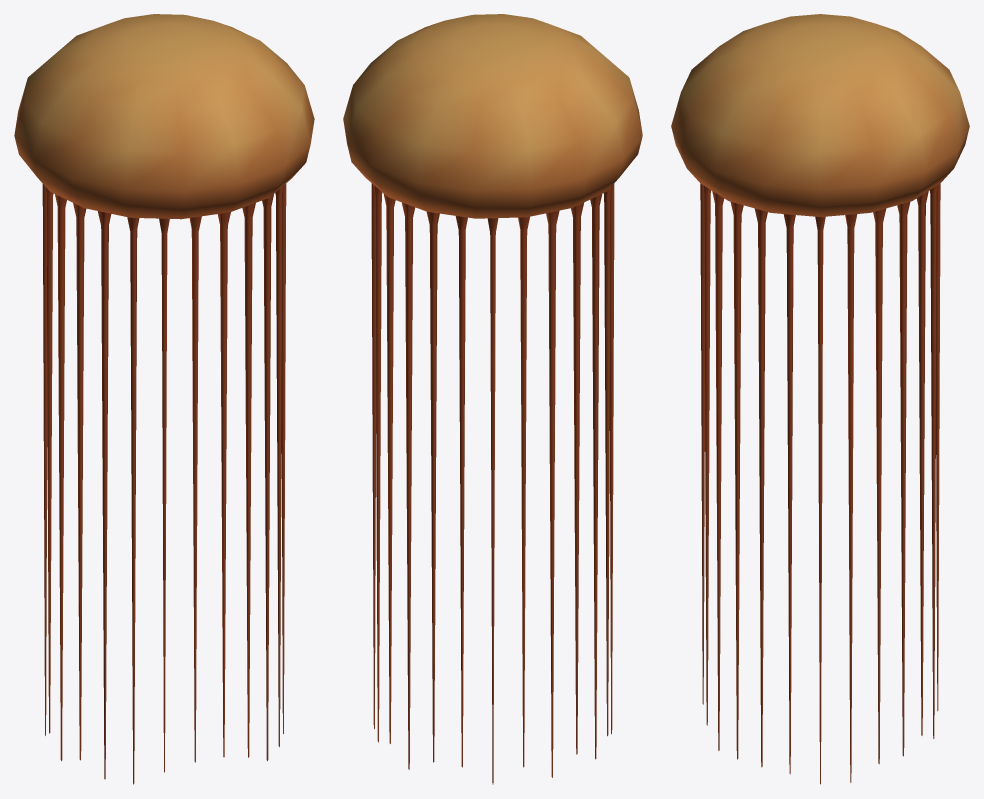
3 views of the same model, side by side, from view 1: azimuth 30°, elevation 25°; view 2: azimuth 150°, elevation 25°; view 3: azimuth 270°, elevation 25° (orthographic).
Visible parts, largest first — view 1: base.828; view 2: base.828; view 3: base.828.
Boxes of the visible parts, bbox=[...] form: base.828: bbox=[14, 14, 314, 784]; base.828: bbox=[343, 14, 642, 784]; base.828: bbox=[671, 14, 969, 784].
Size of the model in its own units: 0.1942 by 0.5 by 0.1942.
